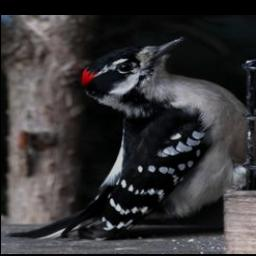Woodpecker: (6, 36, 256, 239)
